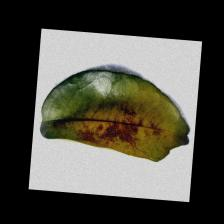canker: (70, 110, 150, 150)
